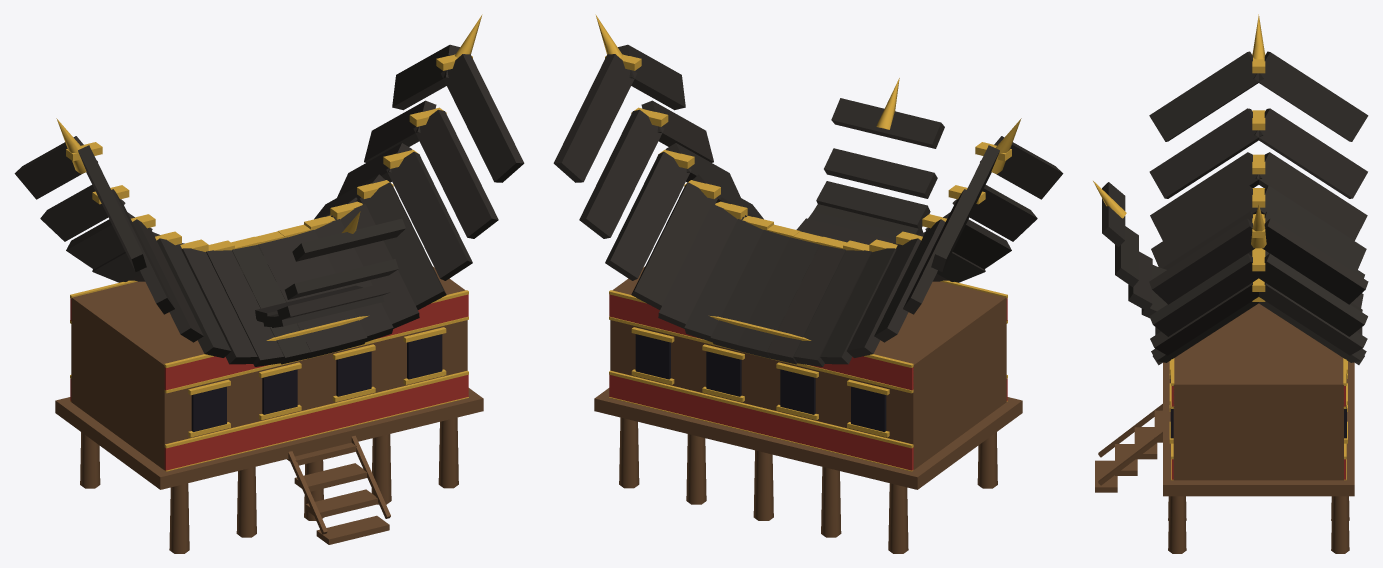
File: rumah_gadang.glb
3 views of the same model, side by side, from view 1: azimuth 30°, elevation 25°; view 2: azimuth 150°, elevation 25°; view 3: azimuth 270°, elevation 25° (orthographic). The views are drawn at different scales.
Parts seen in each view (by area): view 1: rumah_gadang_mesh; view 2: rumah_gadang_mesh; view 3: rumah_gadang_mesh.
Boxes of the visible parts, x1=… form: rumah_gadang_mesh: x1=14, y1=14, x2=524, y2=553; rumah_gadang_mesh: x1=553, y1=14, x2=1063, y2=553; rumah_gadang_mesh: x1=1093, y1=14, x2=1368, y2=553.
Size of the model in its own units: 6.33 by 5.94 by 3.9.
